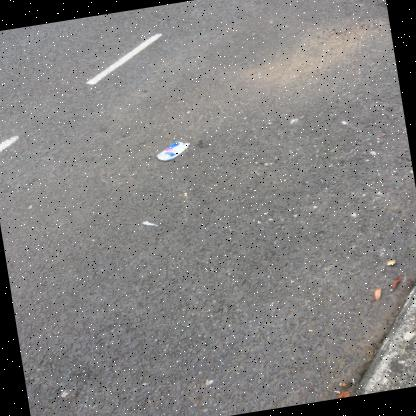Drink can: (157, 141, 190, 160)
Unlabeled litter: (142, 220, 158, 226)
